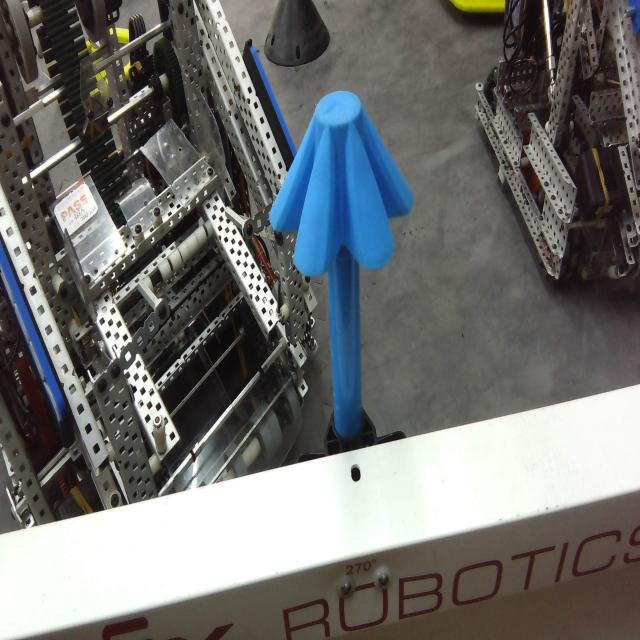zblue-Stake-Head: (269, 88, 415, 273)
